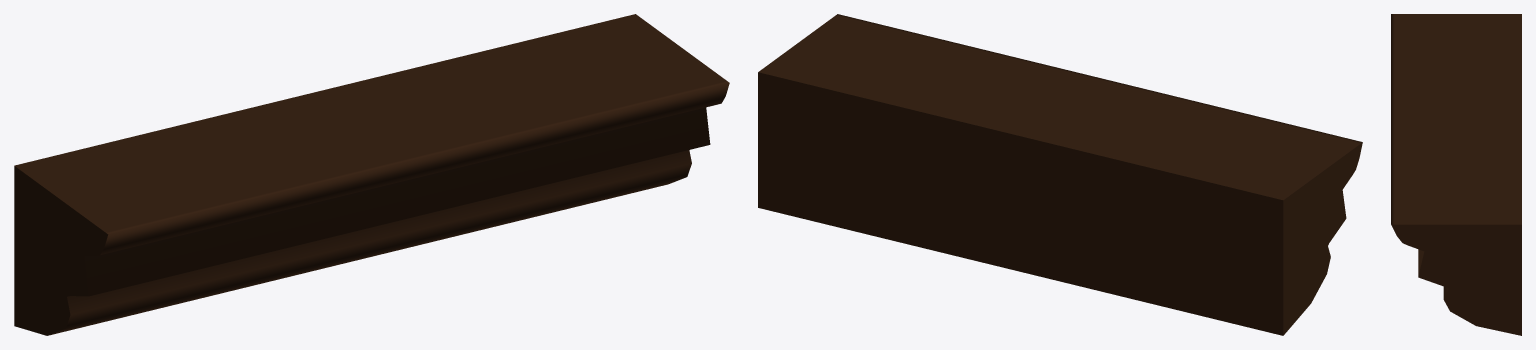
The model's file is MiscCrownMolding.fbx.
3 views of the same model, side by side, from view 1: azimuth 30°, elevation 25°; view 2: azimuth 150°, elevation 25°; view 3: azimuth 270°, elevation 25° (orthographic). The views are drawn at different scales.
Parts seen in each view (by area): view 1: CeilingTrimUVd:extrudedSurface3; view 2: CeilingTrimUVd:extrudedSurface3; view 3: CeilingTrimUVd:extrudedSurface3.
Boxes of the visible parts, x1=… form: CeilingTrimUVd:extrudedSurface3: x1=14, y1=14, x2=729, y2=335; CeilingTrimUVd:extrudedSurface3: x1=758, y1=14, x2=1362, y2=335; CeilingTrimUVd:extrudedSurface3: x1=1391, y1=14, x2=1521, y2=335.
Bounding box in the file's own units: 200 × 49.35 × 52.45.
